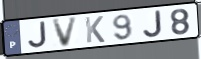8: (170, 8, 192, 36)
9: (111, 13, 135, 42)
J: (142, 9, 164, 39), (27, 20, 49, 50)
K: (84, 15, 107, 44)
V: (50, 16, 79, 50)
